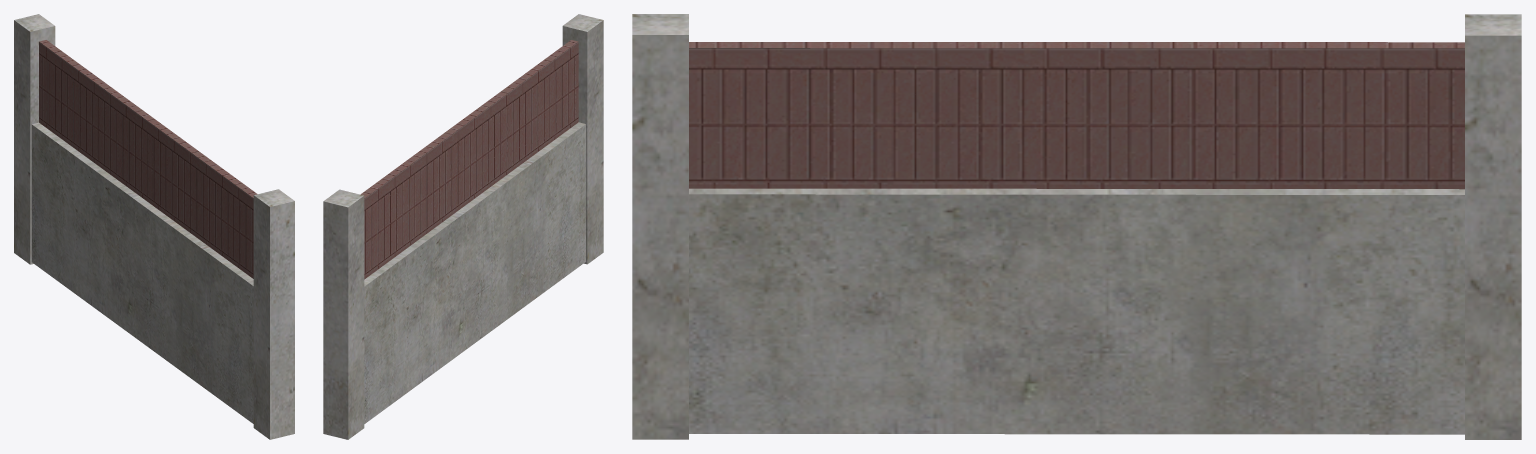
File: Wood_Rotten_Panel_Rail_8_v0__sq03_92.FBX
The picture shows the model from 3 angles, left to right: view 1: azimuth 30°, elevation 25°; view 2: azimuth 150°, elevation 25°; view 3: azimuth 270°, elevation 25°; orthographic projection. The views are drawn at different scales.
Visible parts, largest first — view 1: Wood_Rotten_Panel_Rail_8_v0__sq03_92; view 2: Wood_Rotten_Panel_Rail_8_v0__sq03_92; view 3: Wood_Rotten_Panel_Rail_8_v0__sq03_92.
Part boxes in pixels (x1=…): Wood_Rotten_Panel_Rail_8_v0__sq03_92: x1=14, y1=14, x2=294, y2=439; Wood_Rotten_Panel_Rail_8_v0__sq03_92: x1=323, y1=14, x2=603, y2=439; Wood_Rotten_Panel_Rail_8_v0__sq03_92: x1=632, y1=14, x2=1521, y2=439.
Size of the model in its own units: 1.87 by 16.63 by 33.1.
Materials: 1 (1 with a texture image).
